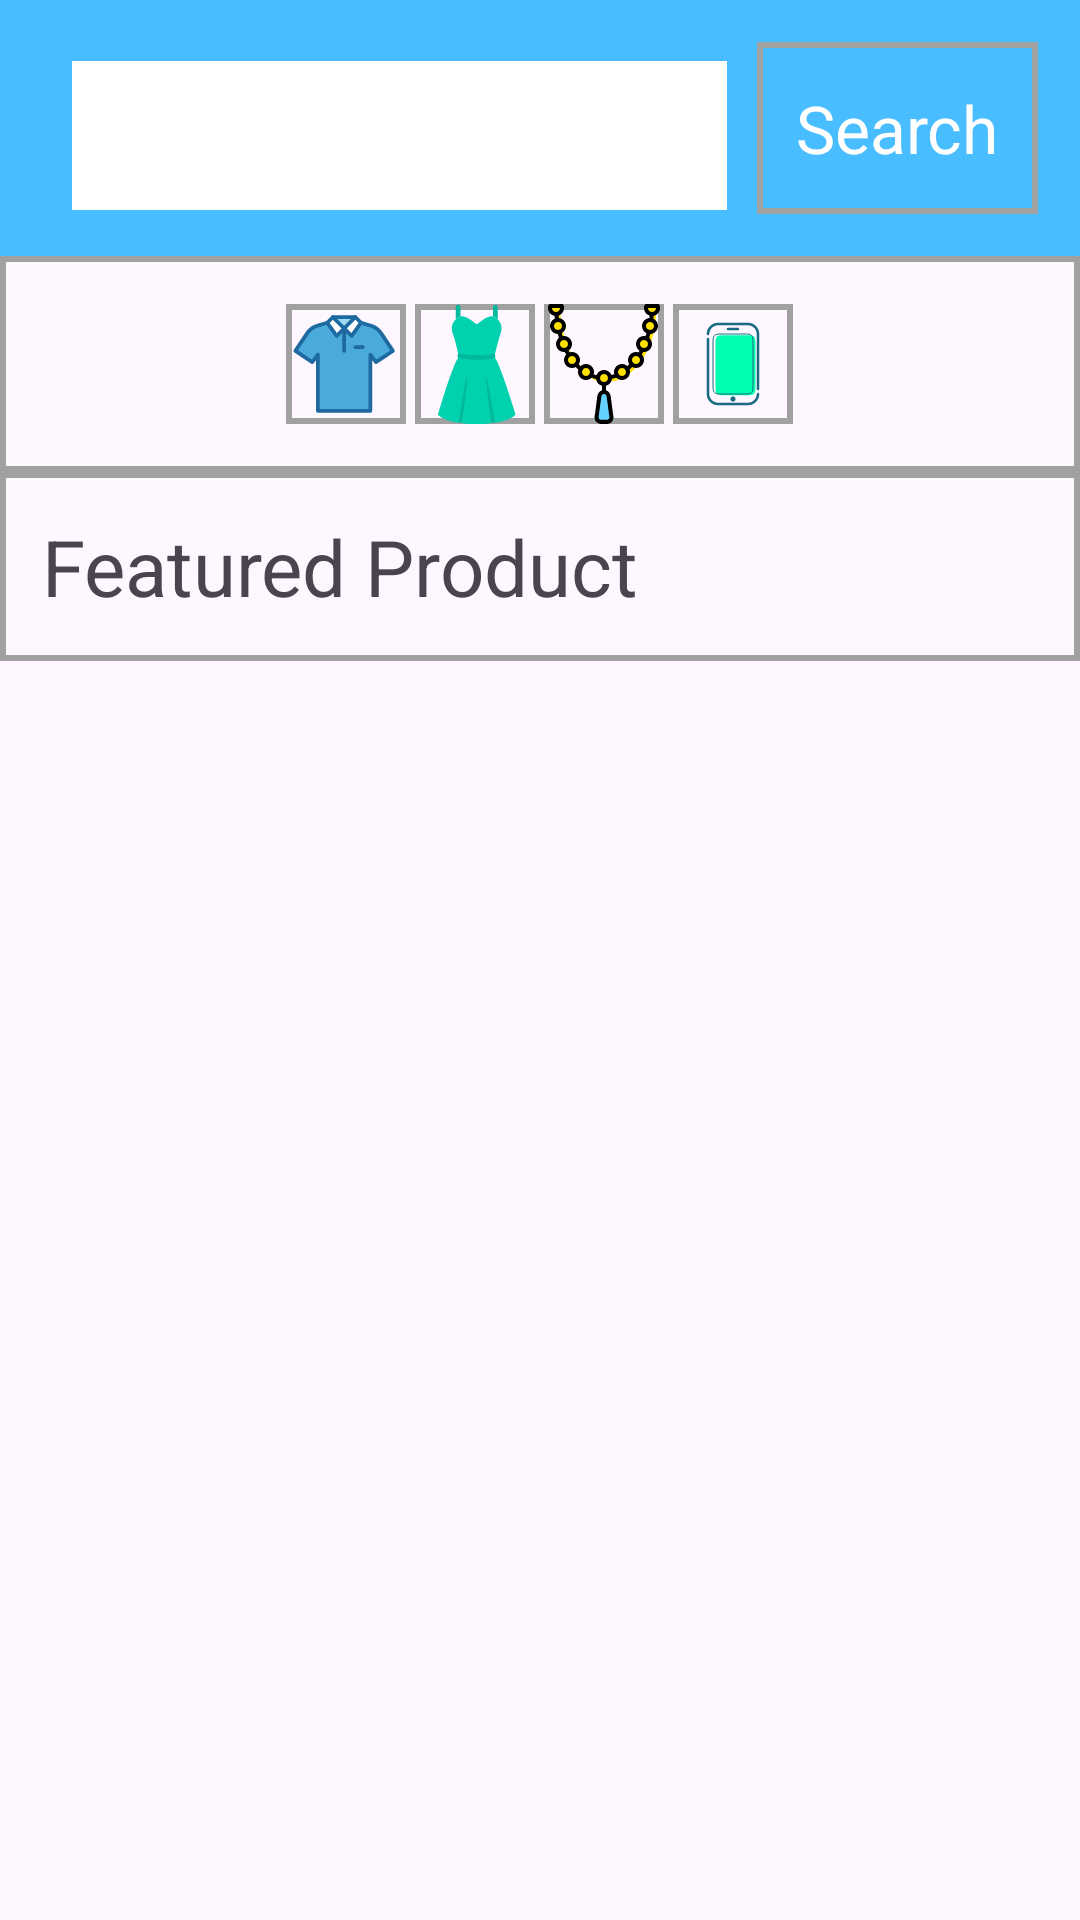

Icons on this 1080px x 1920px Android screen, each with the point to tap as (x=x, y=y):
dress: (x=475, y=364)
electronic: (x=733, y=364)
jewelry: (x=604, y=364)
shirt: (x=346, y=364)
